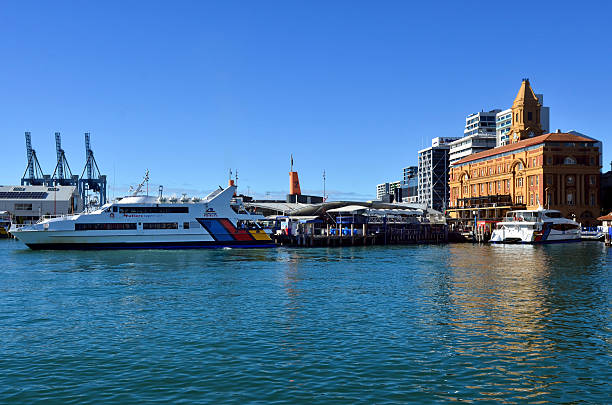ferry: (8, 186, 278, 252), (488, 210, 582, 244)
